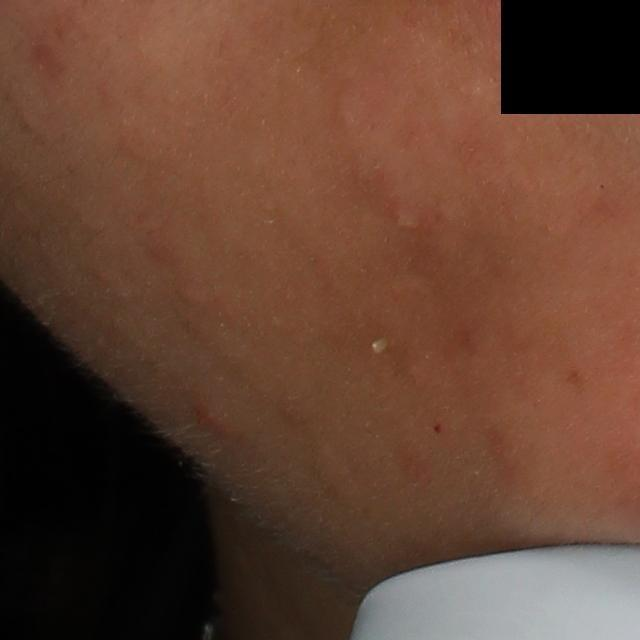papule: (372, 180, 443, 244), (189, 399, 235, 441)
